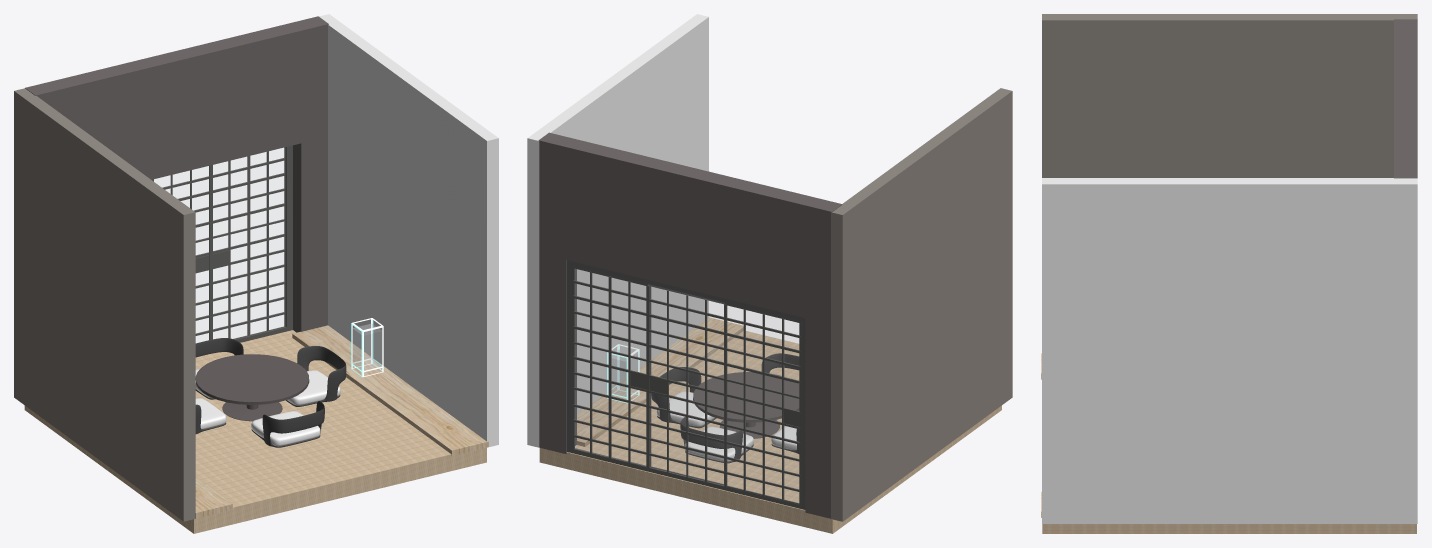
Rendered from room.glb.
3 views of the same model, side by side, from view 1: azimuth 30°, elevation 25°; view 2: azimuth 150°, elevation 25°; view 3: azimuth 270°, elevation 25° (orthographic). The views are drawn at different scales.
Parts seen in each view (by area): view 1: Object_2, Object_5, Object_10, Object_11, Object_13, Object_18, Object_14, Object_12, Object_17, Object_3, Object_8, Object_9 (+2 smaller); view 2: Object_2, Object_10, Object_13, Object_5, Object_14, Object_11, Object_3, Object_12, Object_18, Object_17, Object_7, Object_8 (+1 smaller); view 3: Object_5, Object_2, Object_10, Object_11.
Boxes of the visible parts, x1,y1,x2,y2 form: Object_2: (14,88,195,521); Object_5: (319,14,498,446); Object_10: (25,16,328,332); Object_11: (24,330,486,533); Object_13: (154,148,381,370); Object_18: (195,325,488,518); Object_14: (152,147,285,339); Object_12: (195,354,309,421); Object_17: (195,369,340,446); Object_3: (234,145,292,342); Object_8: (286,346,346,406); Object_9: (251,401,324,447); Object_2: (831,88,1012,521); Object_10: (538,132,842,518); Object_13: (575,269,798,502); Object_5: (527,14,708,447); Object_14: (572,266,802,505); Object_11: (539,331,1001,533); Object_3: (567,260,805,509); Object_12: (693,372,799,438); Object_18: (576,317,743,446); Object_17: (656,391,796,461); Object_7: (680,417,753,463); Object_8: (651,367,716,428); Object_5: (1042,178,1417,523); Object_2: (1042,14,1417,177); Object_10: (1394,19,1417,178); Object_11: (1042,524,1416,533).
Bounding box in the file's own units: 53.23 × 51.96 × 49.73.
Materials: 14 (2 with a texture image).
